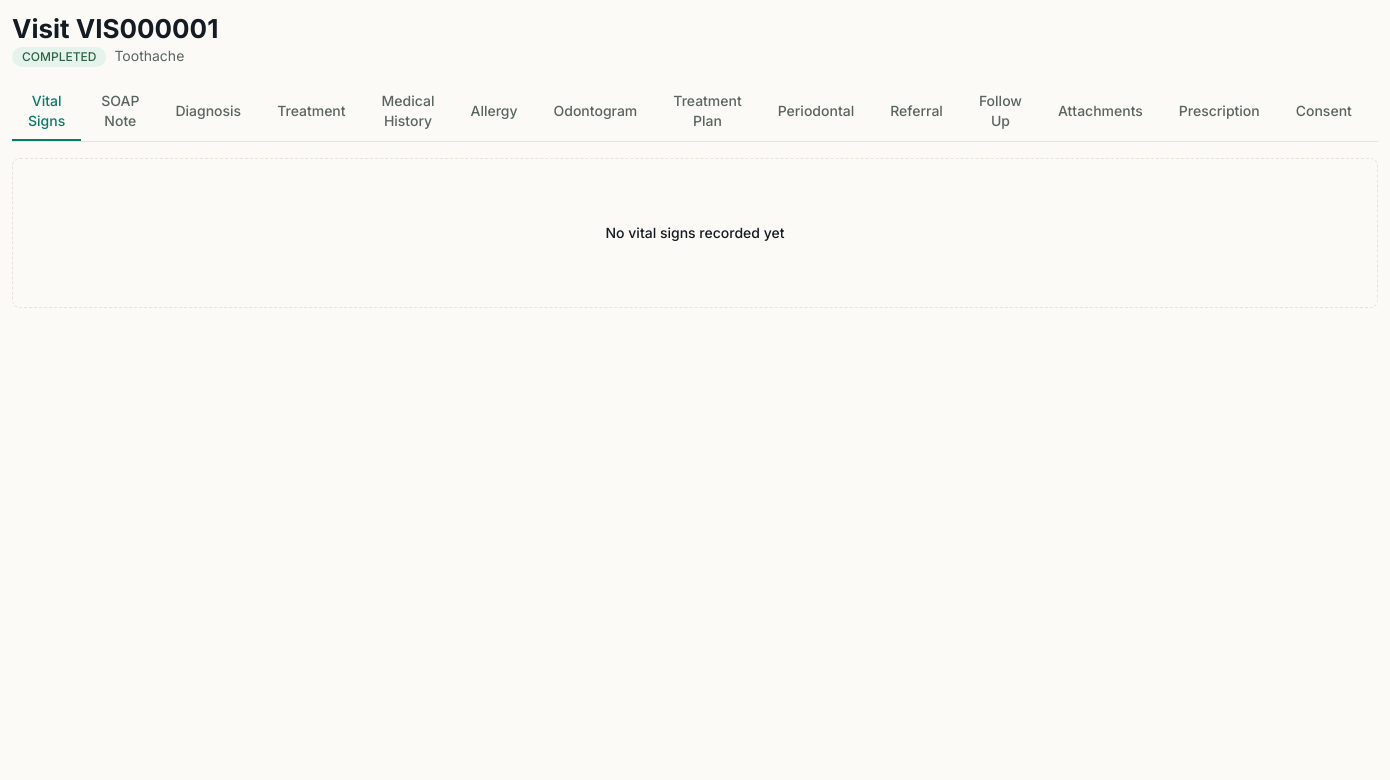
Test: VisitWorkspace › hides mutation controls once the visit is COMPLETED
Expected: the heading "Visit VIS000001" is shown, [12, 12, 218, 46]
Click the tab "SOAP Note".
click(120, 112)  # box [85, 83, 155, 141]
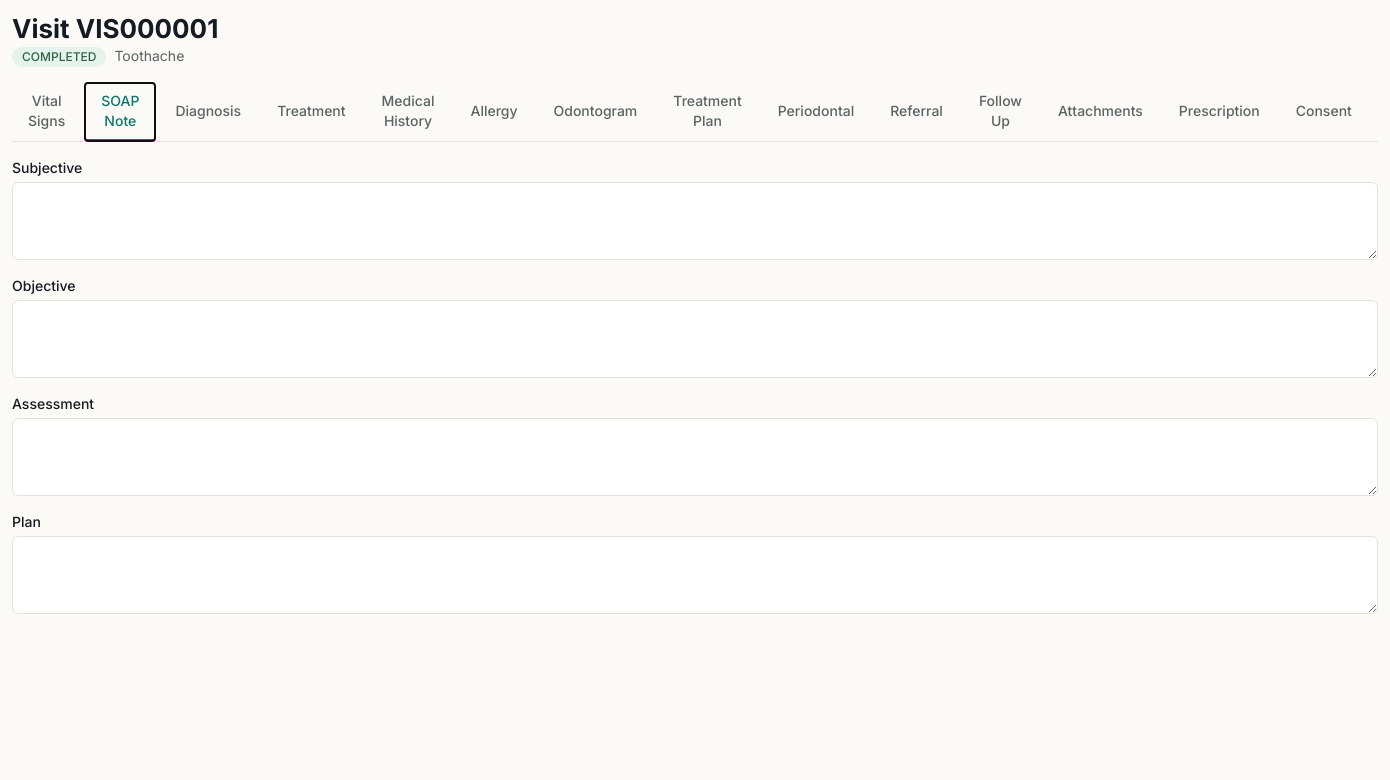
Result: the text box labelled "Subjective" is disabled at [12, 182, 1378, 260]
